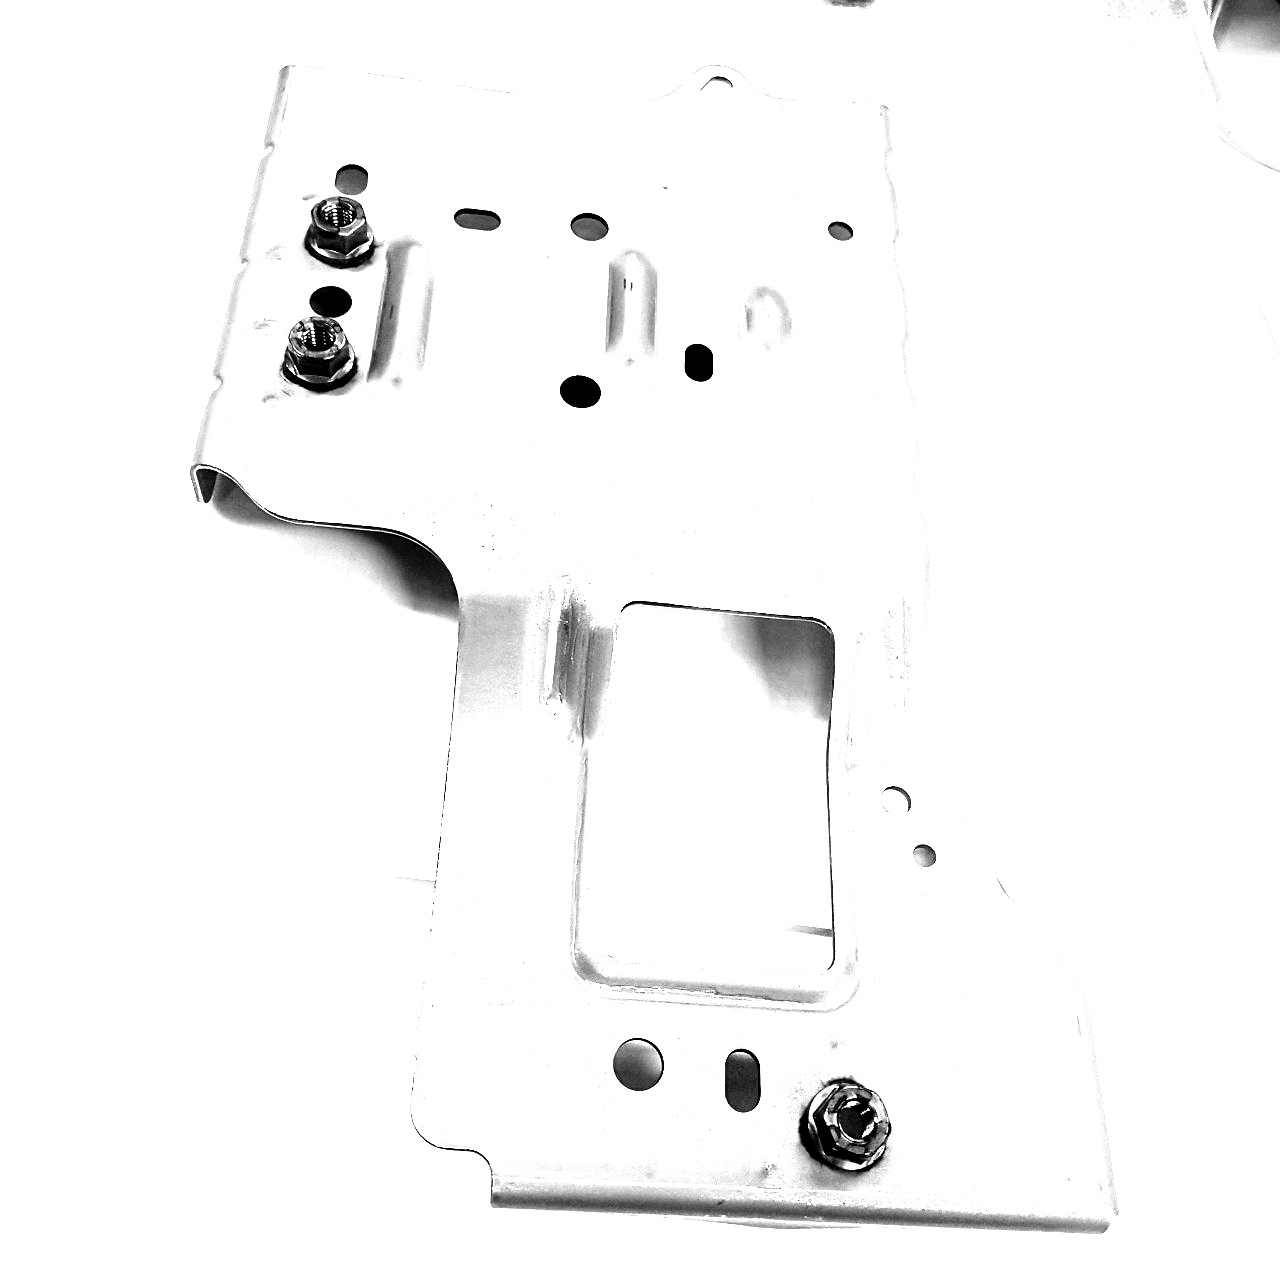dog: (790, 1070, 896, 1180), (275, 312, 366, 396), (297, 195, 384, 275)
